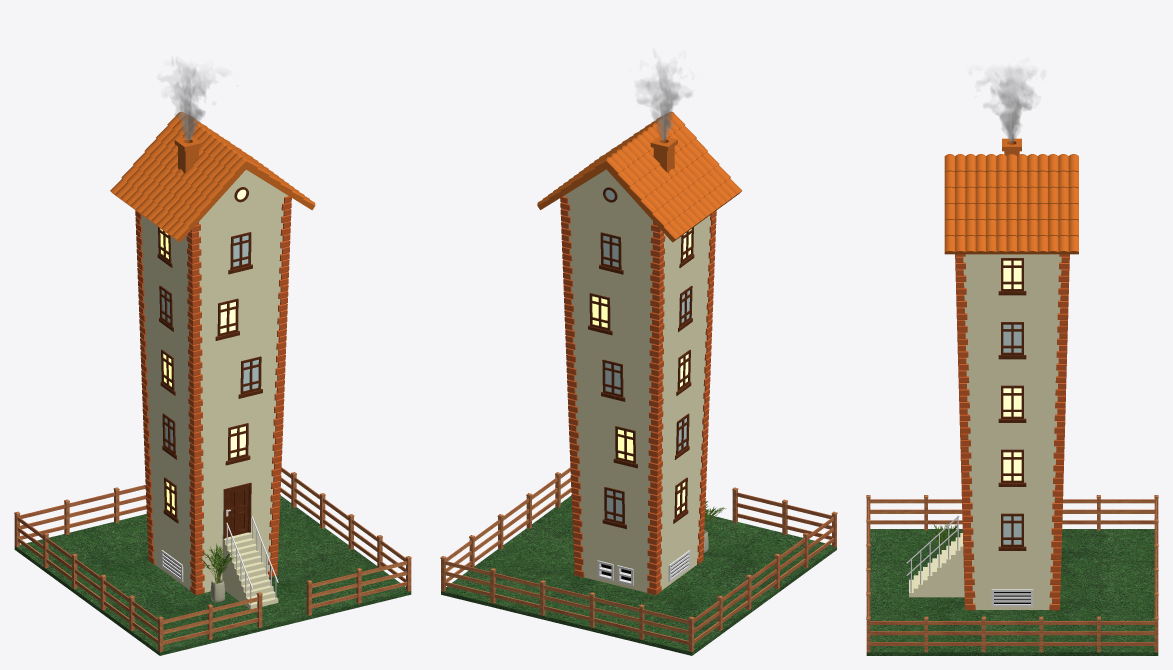
The model's file is building.glb.
The picture shows the model from 3 angles, left to right: view 1: azimuth 30°, elevation 25°; view 2: azimuth 150°, elevation 25°; view 3: azimuth 270°, elevation 25°; orthographic projection.
Parts seen in each view (by area): view 1: Walls, Base, Fence, Roof, Smoke, Chimney; view 2: Walls, Base, Fence, Roof, Smoke, Chimney; view 3: Walls, Base, Roof, Fence, Smoke.
Boxes of the visible parts, x1=… form: Walls: x1=135, y1=169, x2=291, y2=609; Base: x1=14, y1=495, x2=411, y2=655; Fence: x1=14, y1=467, x2=411, y2=651; Roof: x1=110, y1=112, x2=315, y2=242; Smoke: x1=160, y1=61, x2=212, y2=140; Chimney: x1=174, y1=136, x2=201, y2=172; Walls: x1=560, y1=169, x2=716, y2=595; Base: x1=441, y1=496, x2=836, y2=655; Fence: x1=440, y1=467, x2=837, y2=651; Roof: x1=537, y1=111, x2=742, y2=242; Smoke: x1=636, y1=62, x2=691, y2=140; Chimney: x1=650, y1=136, x2=677, y2=172; Walls: x1=909, y1=254, x2=1069, y2=610; Base: x1=866, y1=529, x2=1158, y2=655; Roof: x1=944, y1=154, x2=1078, y2=254; Fence: x1=866, y1=495, x2=1158, y2=652; Smoke: x1=977, y1=67, x2=1036, y2=141.
Size of the model in its own units: 0.1268 by 0.2602 by 0.1268.
18 materials, 7 textured.
